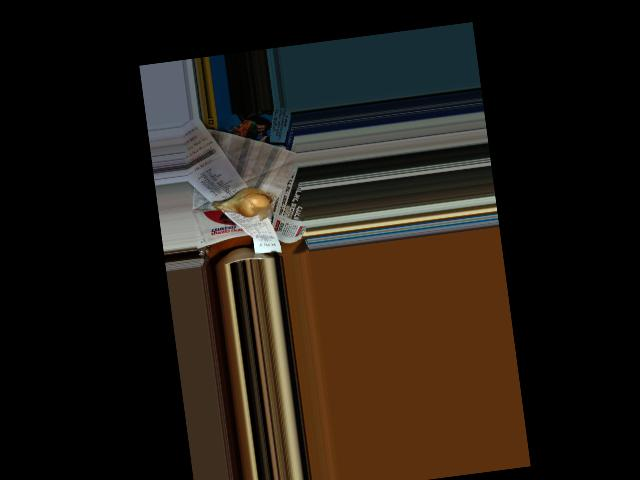onion: (217, 183, 271, 218)
